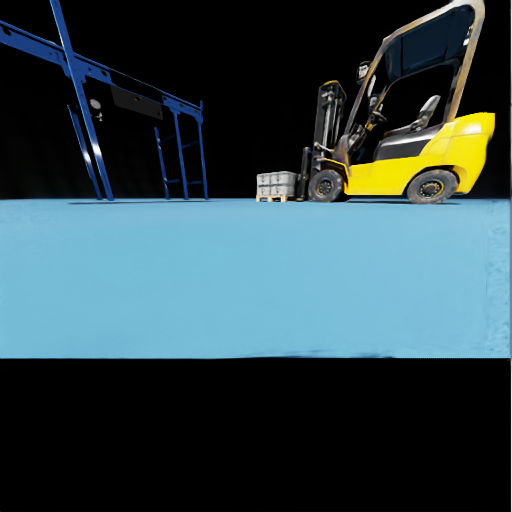transportation_area: (278, 184, 298, 194), (271, 184, 276, 194), (88, 68, 90, 70), (63, 58, 65, 60), (50, 53, 51, 54)
